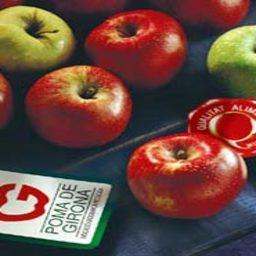apple: (128, 132, 249, 216), (24, 64, 130, 152), (85, 8, 189, 86), (1, 3, 74, 76), (207, 24, 256, 96), (185, 1, 249, 27)
